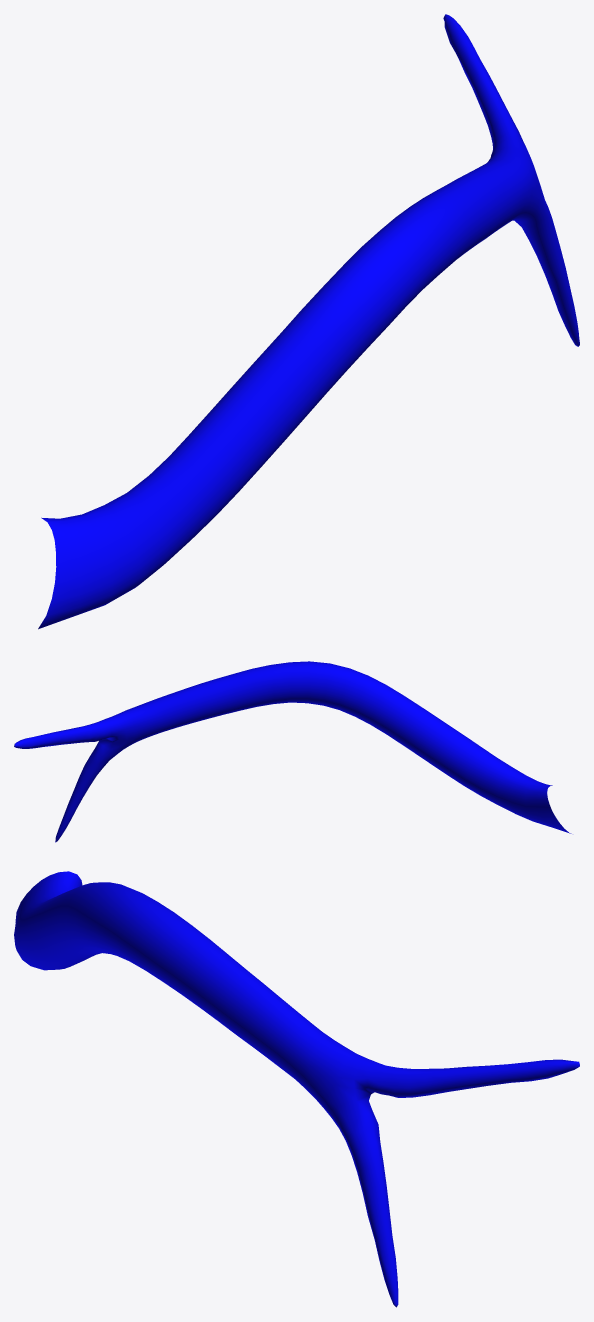
The model's file is frau2-742.glb.
3 views of the same model, one above another, from view 1: azimuth 30°, elevation 25°; view 2: azimuth 150°, elevation 25°; view 3: azimuth 270°, elevation 25° (orthographic). The views are drawn at different scales.
Parts seen in each view (by area): view 1: VH_F_inferior_rectal_vein_R; view 2: VH_F_inferior_rectal_vein_R; view 3: VH_F_inferior_rectal_vein_R.
Part boxes in pixels (x1,y1,x2,y2): VH_F_inferior_rectal_vein_R: (38, 14, 579, 629); VH_F_inferior_rectal_vein_R: (14, 661, 571, 842); VH_F_inferior_rectal_vein_R: (14, 871, 579, 1307).
Size of the model in its own units: 0.0519 by 0.0199 by 0.038.
